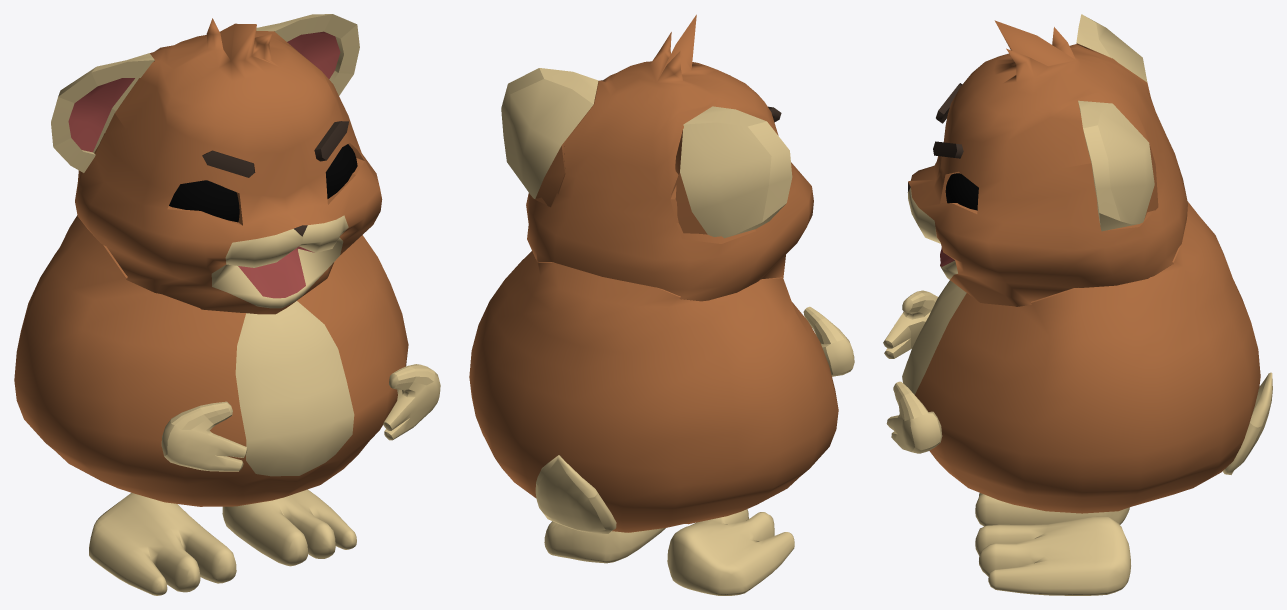
The model's file is Jumbo.fbx.
3 views of the same model, side by side, from view 1: azimuth 30°, elevation 25°; view 2: azimuth 150°, elevation 25°; view 3: azimuth 270°, elevation 25° (orthographic). The views are drawn at different scales.
Parts seen in each view (by area): view 1: djumbo_proto:polySurface1; view 2: djumbo_proto:polySurface1; view 3: djumbo_proto:polySurface1.
Boxes of the visible parts, left/top/right/bottom form: djumbo_proto:polySurface1: left=14, top=14, right=440, bottom=595; djumbo_proto:polySurface1: left=469, top=14, right=854, bottom=595; djumbo_proto:polySurface1: left=883, top=14, right=1272, bottom=595.
Bounding box in the file's own units: 10.45 × 15.81 × 10.55.
